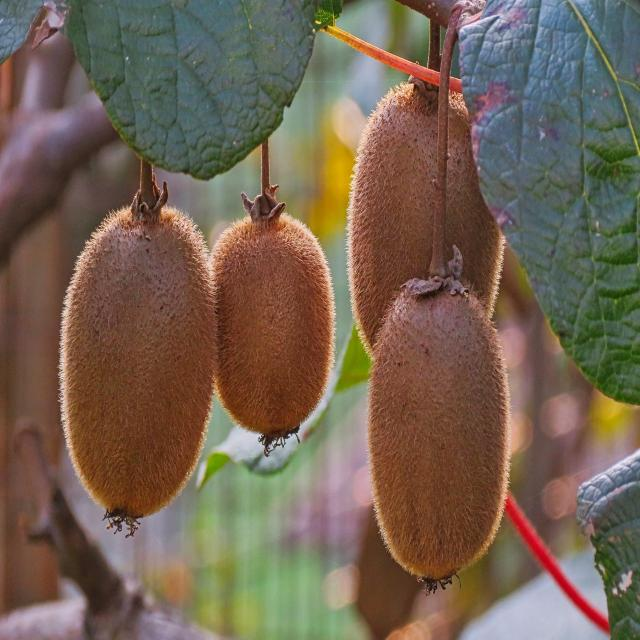kiwi: (58, 194, 212, 532), (344, 76, 510, 360), (367, 272, 511, 587), (206, 208, 341, 442)
